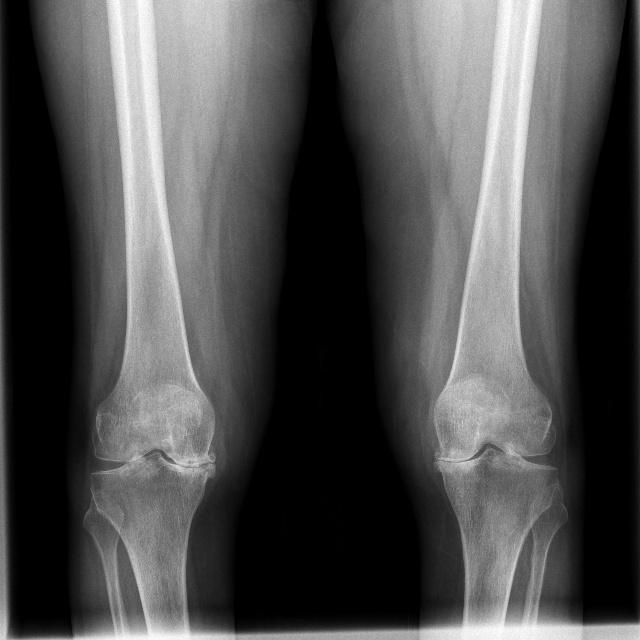Knee: (428, 414, 559, 500), (87, 411, 212, 499)
